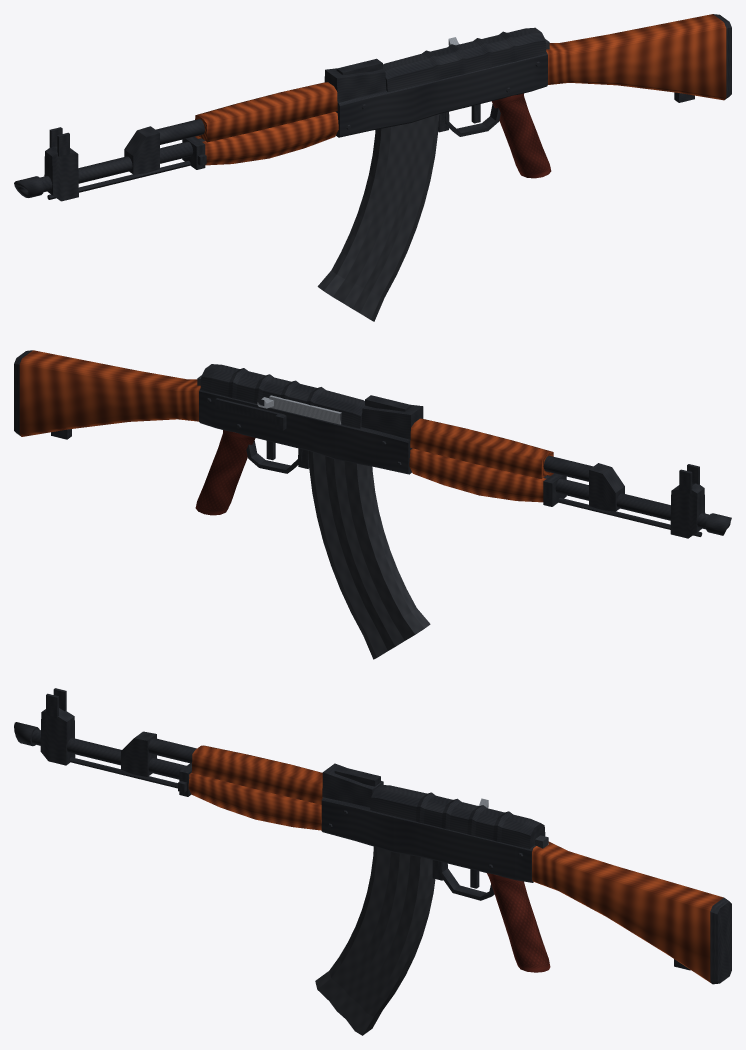
File: akm.glb
3 views of the same model, one above another, from view 1: azimuth 30°, elevation 25°; view 2: azimuth 150°, elevation 25°; view 3: azimuth 330°, elevation 25° (orthographic).
Visible parts, largest first — view 1: akm; view 2: akm; view 3: akm.
Part boxes in pixels (x1=…): akm: x1=14, y1=14, x2=731, y2=321; akm: x1=14, y1=350, x2=731, y2=659; akm: x1=14, y1=688, x2=731, y2=1035.
Bounding box in the file's own units: 0.8814 × 0.3122 × 0.0595.
Materials: 2 (2 with a texture image).
